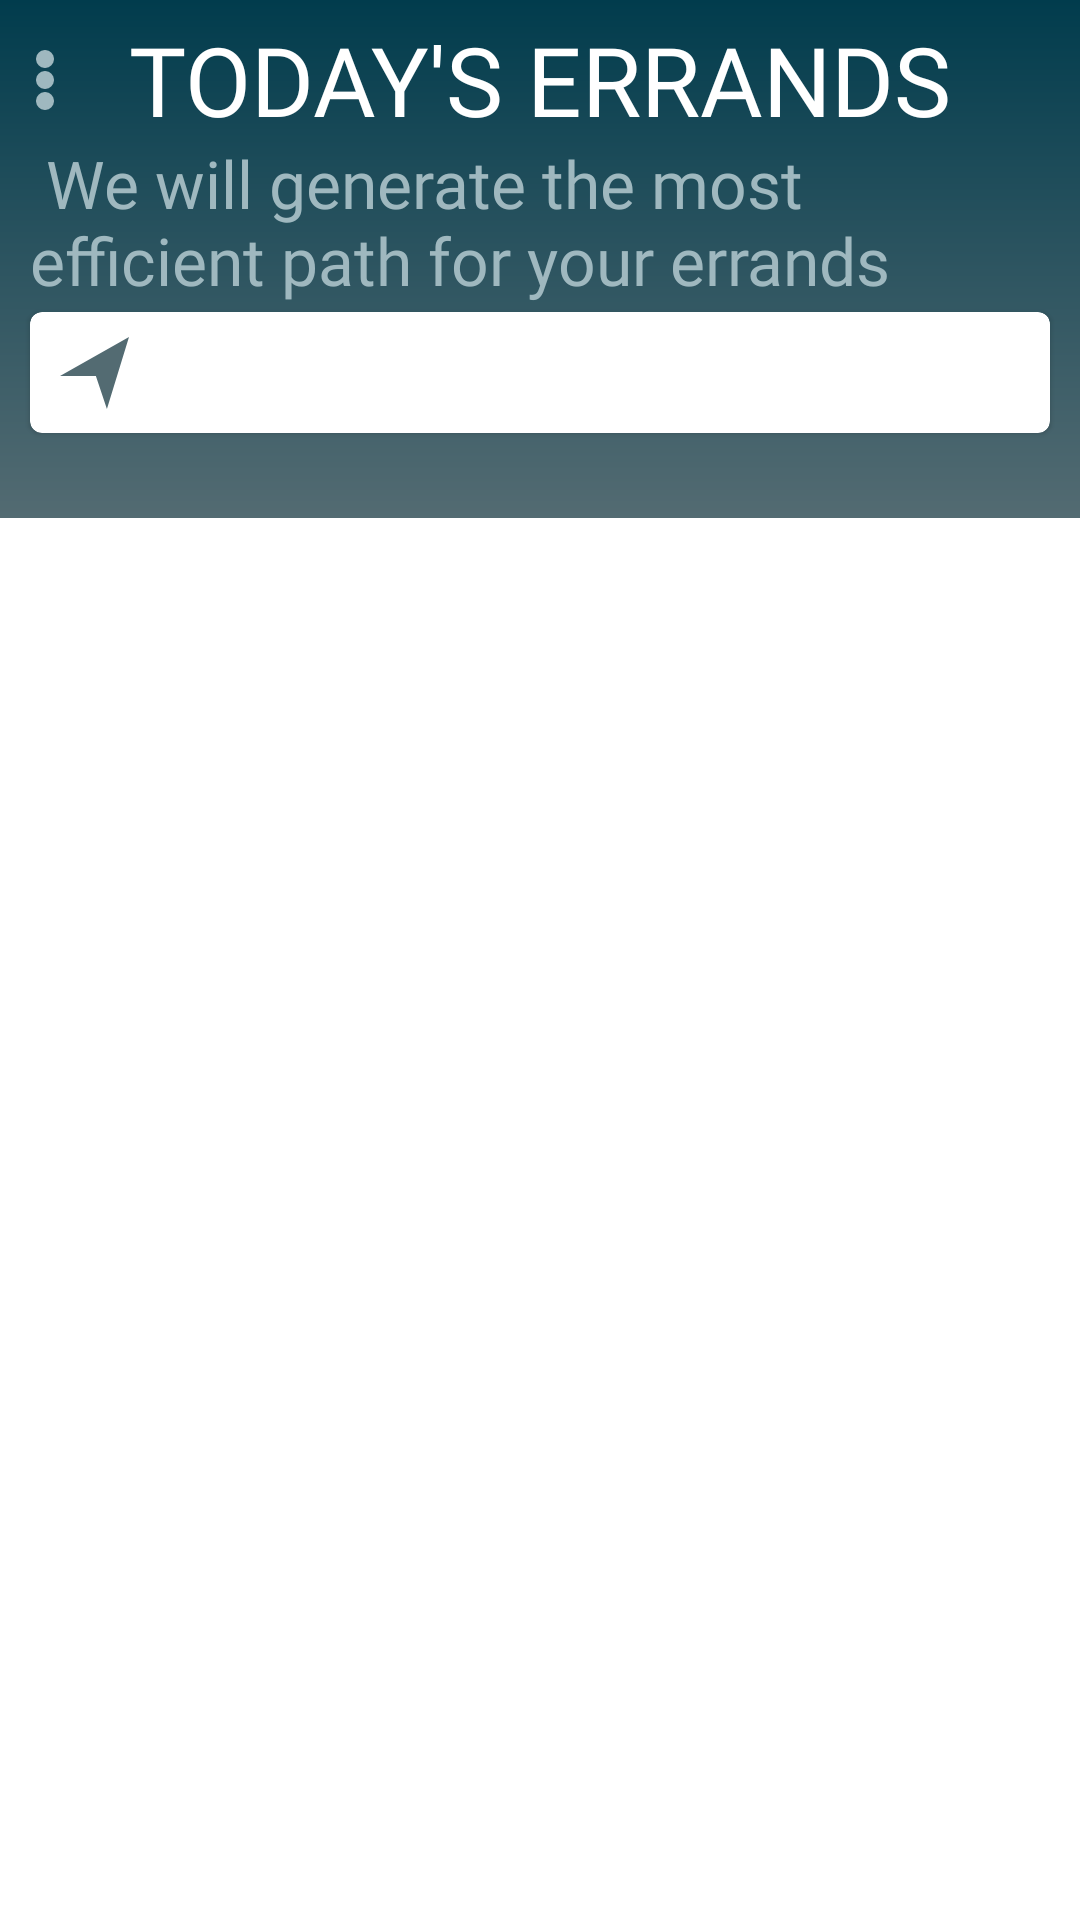

Where icons sit on this 1080px×1920px app screen, as (x1, y1, x2, y2):
menu: (36, 50, 54, 110)
pointer: (60, 337, 129, 409)
